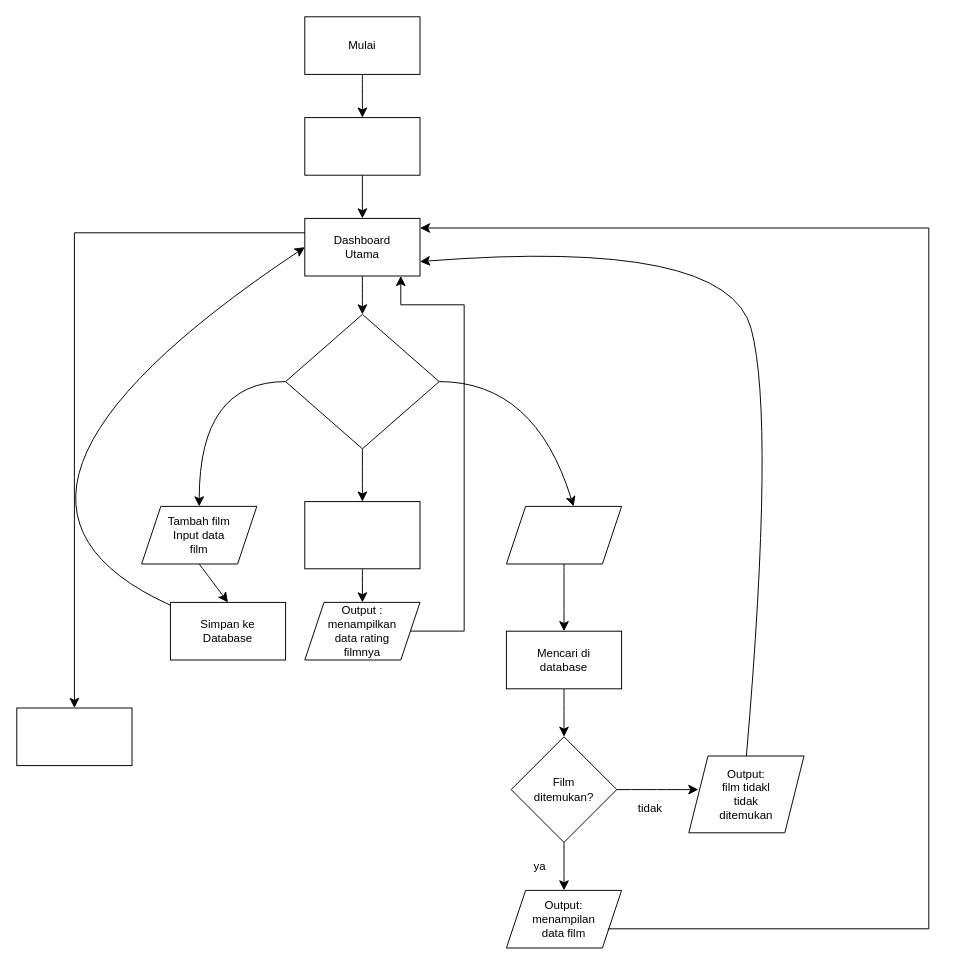
Image size: 955x965. Some labels were removed from this diagram. The box of each missing label's shape, as (x1, y1, x2, y2) in pixels:
Input pencarian judul dan genre: (505, 505, 622, 564)
Input Pilihan Menu: (285, 313, 439, 449)
Login/register: (304, 117, 420, 175)
Proses: urutkan film berdasarkan Rating: (304, 501, 420, 569)
Selesai: (16, 707, 132, 766)
